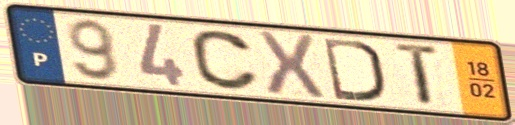4: (135, 20, 188, 90)
9: (64, 17, 122, 83)
C: (187, 27, 263, 93)
D: (319, 35, 387, 104)
T: (394, 40, 444, 109)
X: (252, 28, 329, 100)
